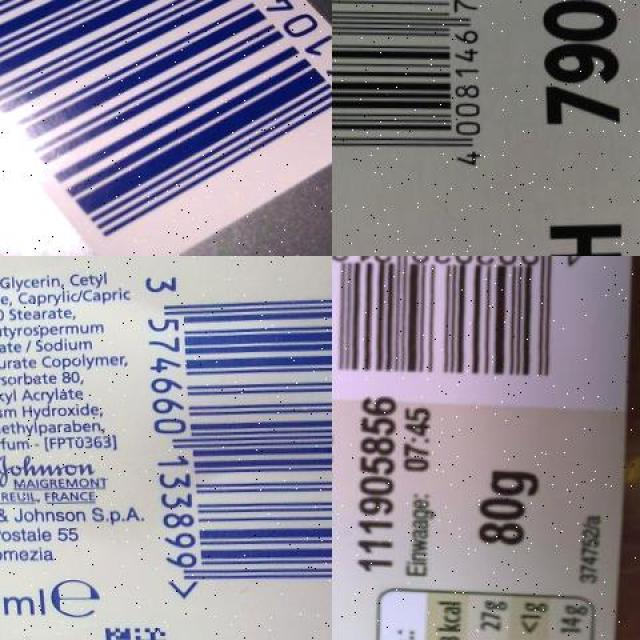Barcode: (0, 0, 332, 256), (131, 256, 332, 609), (332, 256, 631, 397), (332, 0, 499, 183)
